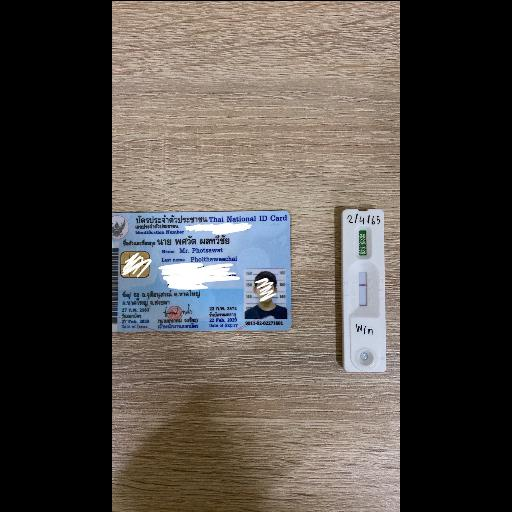Neg: (342, 208, 384, 372)
